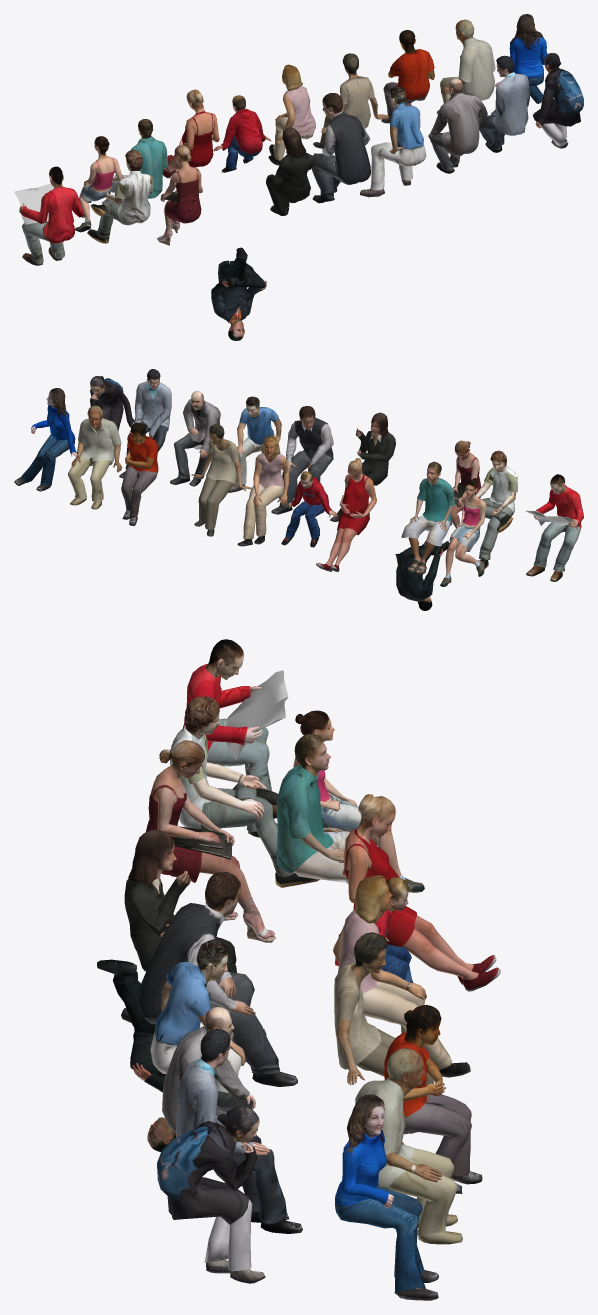
Rendered from personas_sentadas_fijas.FBX.
3 renders of one model, top to bottom at view 1: azimuth 30°, elevation 25°; view 2: azimuth 150°, elevation 25°; view 3: azimuth 270°, elevation 25°, orthographic. The views are drawn at different scales.
Parts seen in each view (by area): view 1: BMan0004-Se, CMan0003-Se, CMan0001-Se, CMan0004-Se, CMan0002-Se, CWom0001-Se, CMan0005-Se, BMan0006-Se, BWom0003-Se, cman0007-se.layer01, BWom0006-Se, cwom0006-se.layer01 (+7 smaller); view 2: cman0007-se.layer01, CMan0003-Se, CMan0018-Se, cwom0010-se.layer01, BMan0004-Se, cwom0008-se.layer01, CWom0017-Se, CWom0005-Se, CMan0002-Se, cwom0006-se.layer01, CMan0004-Se, CWom0018-Se (+7 smaller); view 3: CWom0001-Se, BMan0004-Se, CWom0005-Se, cman0007-se.layer01, BWom0006-Se, CMan0003-Se, CMan0002-Se, CWom0017-Se, CMan0018-Se, CMan0005-Se, cwom0006-se.layer01, cwom0010-se.layer01 (+7 smaller).
Part boxes in pixels (<box>): BMan0004-Se: <box>311,93,370,203</box>; CMan0003-Se: <box>14,166,83,265</box>; CMan0001-Se: <box>360,86,426,197</box>; CMan0004-Se: <box>428,78,487,173</box>; CMan0002-Se: <box>87,150,153,243</box>; CWom0001-Se: <box>532,53,583,148</box>; CMan0005-Se: <box>479,55,530,152</box>; BMan0006-Se: <box>211,247,266,340</box>; BWom0003-Se: <box>266,127,314,215</box>; cman0007-se.layer01: <box>436,19,495,114</box>; BWom0006-Se: <box>157,145,202,245</box>; cwom0006-se.layer01: <box>381,30,434,123</box>; cman0007-se.layer01: <box>67,405,122,509</box>; CMan0003-Se: <box>525,474,583,581</box>; CMan0018-Se: <box>401,461,455,574</box>; cwom0010-se.layer01: <box>237,436,289,546</box>; BMan0004-Se: <box>271,406,333,514</box>; cwom0008-se.layer01: <box>191,424,251,536</box>; CWom0017-Se: <box>316,458,376,571</box>; CWom0005-Se: <box>14,388,76,491</box>; CMan0002-Se: <box>475,450,517,568</box>; cwom0006-se.layer01: <box>121,422,158,525</box>; CMan0004-Se: <box>170,391,220,486</box>; CWom0018-Se: <box>440,478,486,586</box>; CWom0001-Se: <box>157,1106,265,1283</box>; BMan0004-Se: <box>136,872,297,1086</box>; CWom0005-Se: <box>335,1094,438,1300</box>; cman0007-se.layer01: <box>355,1048,462,1244</box>; BWom0006-Se: <box>146,740,275,942</box>; CMan0003-Se: <box>182,639,288,837</box>; CMan0002-Se: <box>170,696,319,887</box>; CWom0017-Se: <box>342,794,500,991</box>; CMan0018-Se: <box>276,733,349,884</box>; CMan0005-Se: <box>176,1029,302,1233</box>; cwom0006-se.layer01: <box>384,1004,482,1193</box>; cwom0010-se.layer01: <box>333,875,470,1077</box>.
Size of the model in its own units: 7.38 by 2.57 by 2.49.
